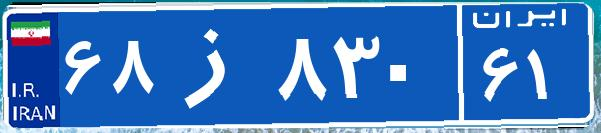0: (385, 28, 445, 110)
1: (525, 38, 570, 115)
3: (330, 28, 385, 110)
6: (57, 26, 110, 107), (475, 38, 525, 113)
8: (273, 28, 330, 110), (110, 28, 158, 105)
ز: (158, 15, 273, 115)
